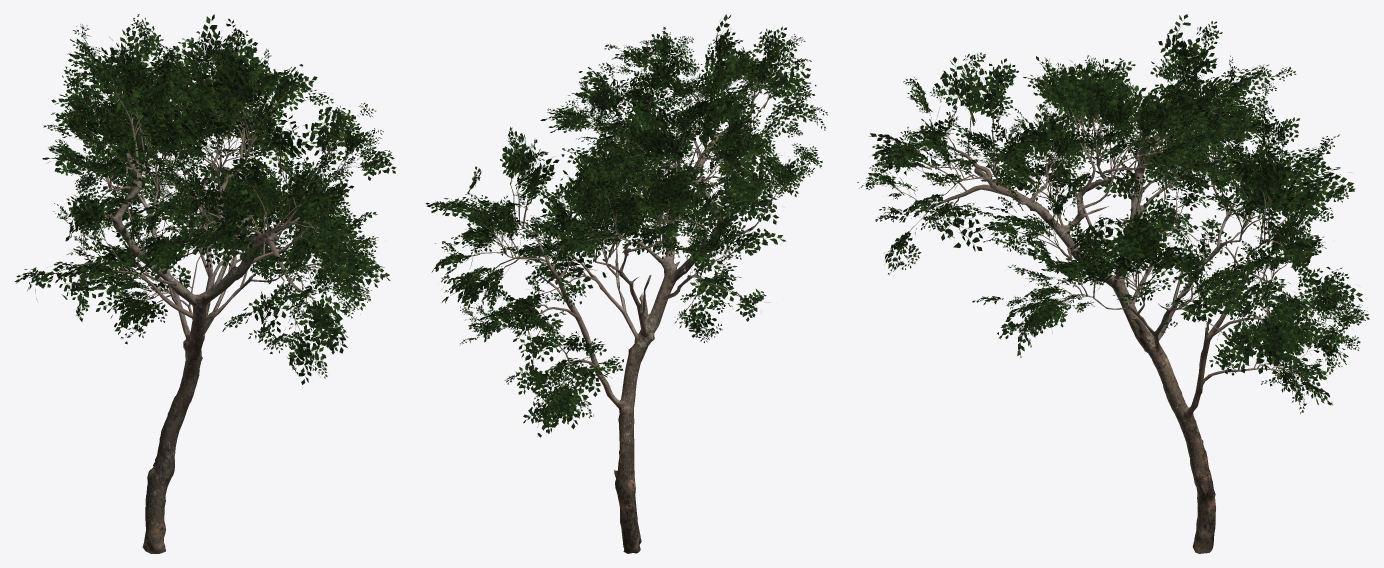
The model's file is tree_a.glb.
3 views of the same model, side by side, from view 1: azimuth 30°, elevation 25°; view 2: azimuth 150°, elevation 25°; view 3: azimuth 270°, elevation 25° (orthographic). The views are drawn at different scales.
Parts seen in each view (by area): view 1: BezierCurve_002; view 2: BezierCurve_002; view 3: BezierCurve_002.
Part boxes in pixels (<box>): BezierCurve_002: <box>14,14,396,553</box>; BezierCurve_002: <box>425,14,827,553</box>; BezierCurve_002: <box>857,14,1369,553</box>.
Bounding box in the file's own units: 2.94 × 4.58 × 4.29.
3 materials, 3 textured.
